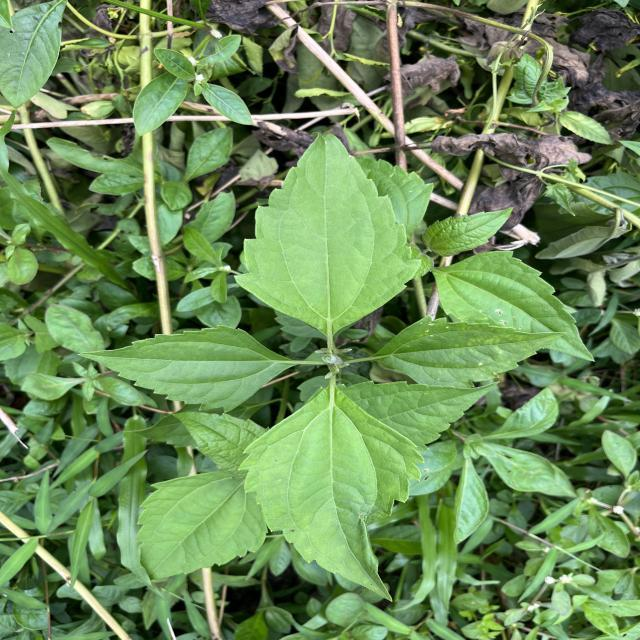Chromolaena odorata: (233, 378, 428, 606), (231, 128, 425, 339), (73, 322, 298, 416)
